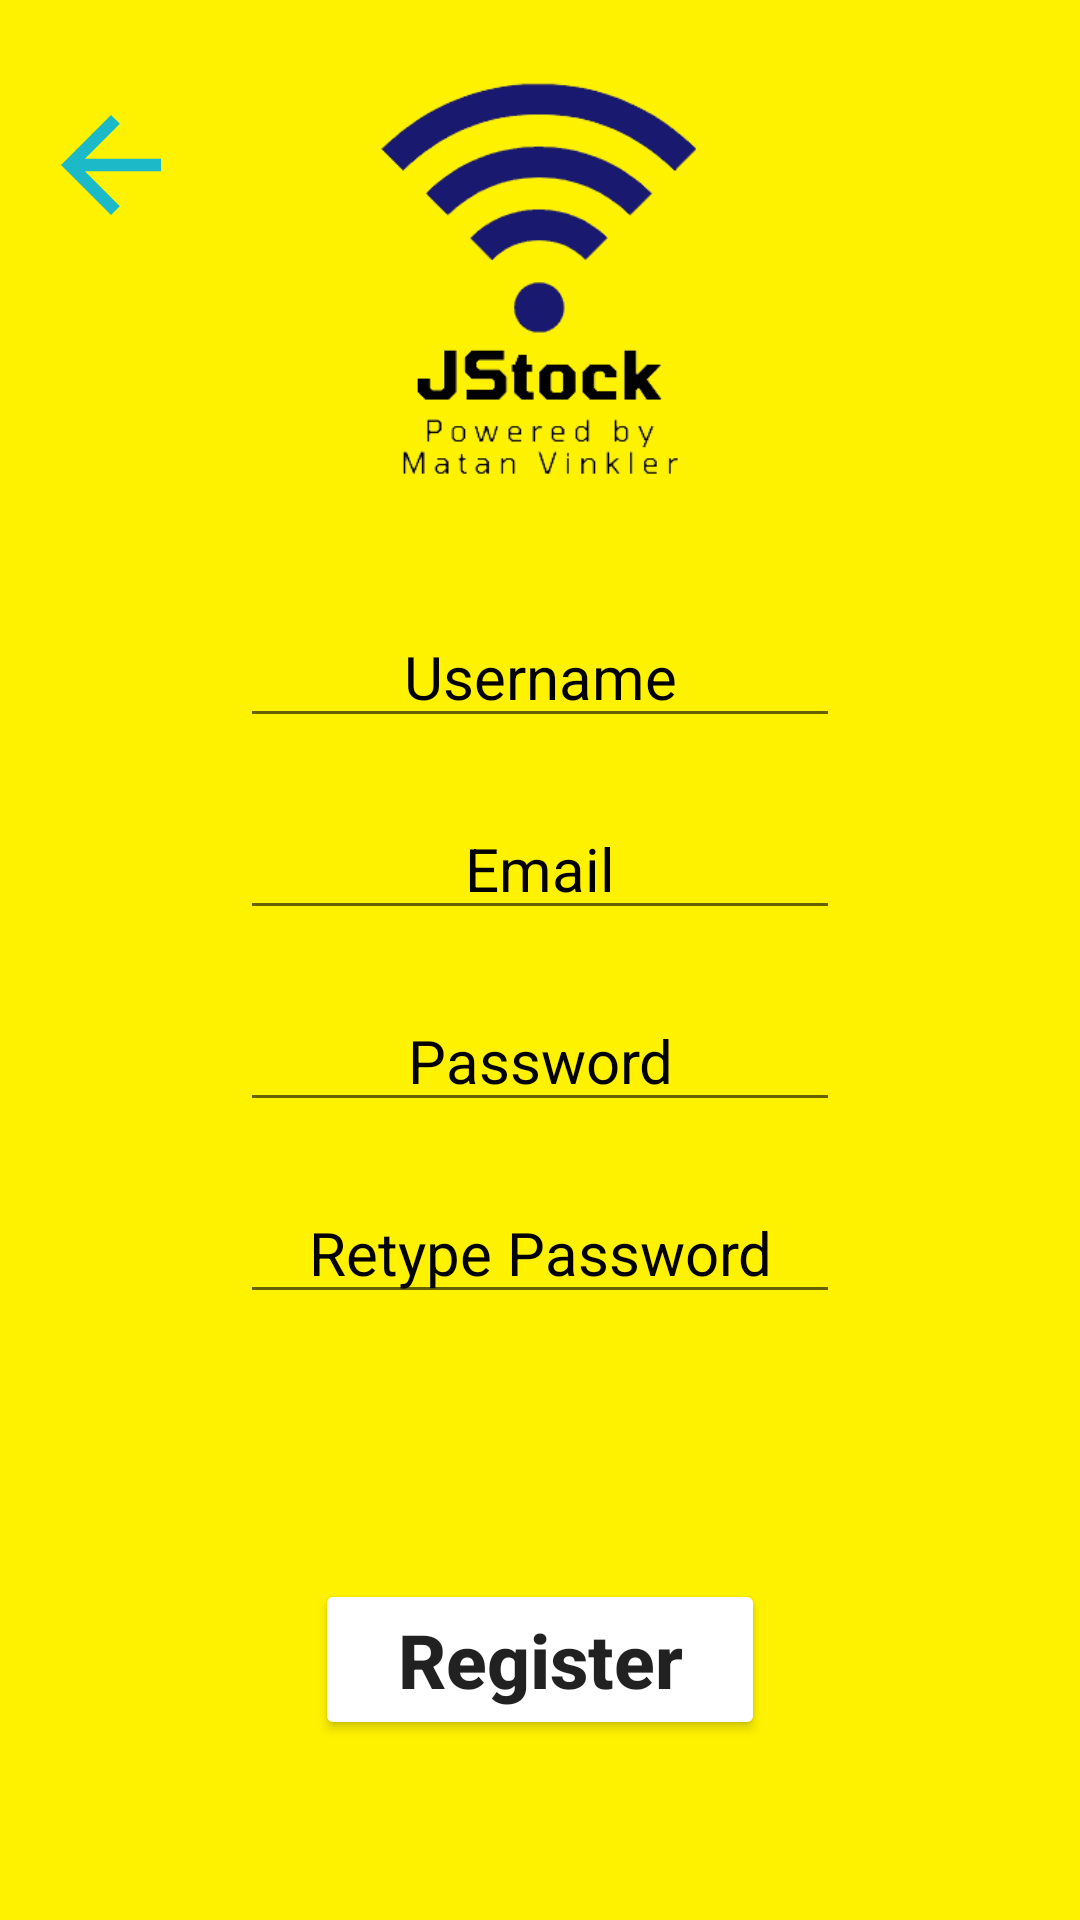

Icon click points for this 1080*1920 phone screenshot, format (x,y):
back: (111,165)
